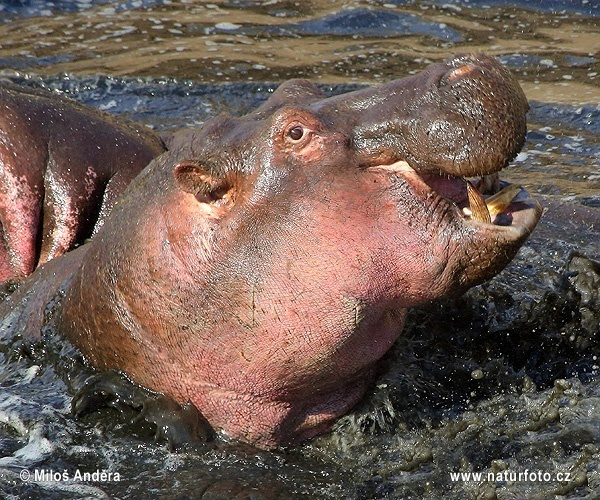hipopotamo: (27, 37, 563, 470)
